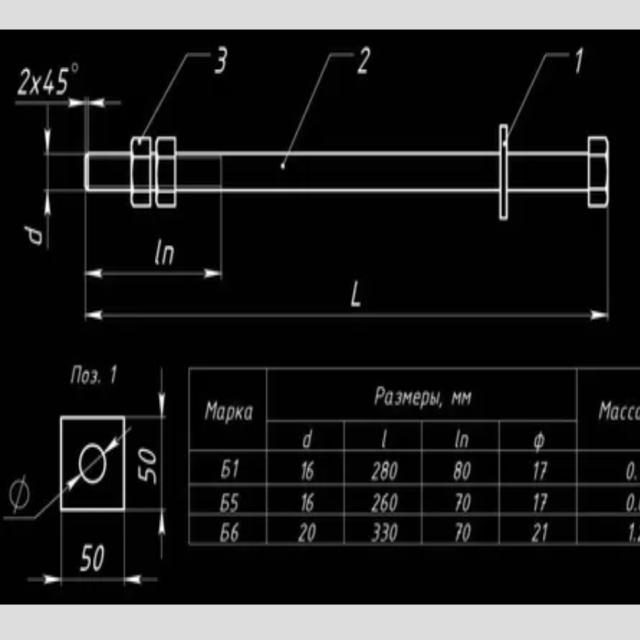marking_line: (77, 210, 616, 323), (13, 97, 84, 256), (83, 210, 225, 283), (32, 513, 160, 589), (128, 368, 169, 589), (289, 46, 356, 147), (140, 43, 210, 135), (510, 48, 570, 138), (42, 187, 83, 252), (129, 363, 171, 419), (81, 91, 121, 149), (128, 508, 170, 560), (63, 475, 81, 493), (105, 434, 120, 454)
numeric: (17, 66, 32, 96), (213, 45, 228, 75), (138, 465, 158, 486), (56, 66, 69, 96), (137, 447, 157, 465), (357, 47, 370, 74), (79, 543, 91, 572), (93, 544, 105, 572), (43, 69, 54, 96), (461, 458, 472, 482), (451, 460, 463, 481), (297, 522, 308, 543), (371, 460, 382, 481), (372, 493, 383, 514), (378, 524, 390, 542), (306, 493, 316, 514), (461, 522, 472, 541), (231, 521, 241, 541), (388, 523, 398, 543), (532, 522, 542, 542), (306, 459, 315, 481), (110, 363, 118, 387), (307, 523, 317, 542), (540, 491, 549, 512), (539, 459, 547, 482), (381, 491, 390, 511), (626, 492, 635, 512), (390, 459, 398, 480), (626, 461, 634, 482), (533, 459, 540, 482), (381, 460, 389, 480), (390, 491, 398, 511), (372, 522, 380, 542), (628, 522, 636, 542), (300, 459, 307, 481), (462, 493, 470, 512), (454, 522, 461, 541), (233, 457, 238, 481), (455, 492, 461, 512), (543, 521, 549, 541), (231, 493, 237, 511), (301, 494, 307, 511), (533, 491, 538, 511)
special_symbol: (10, 472, 31, 514), (72, 62, 79, 74)
